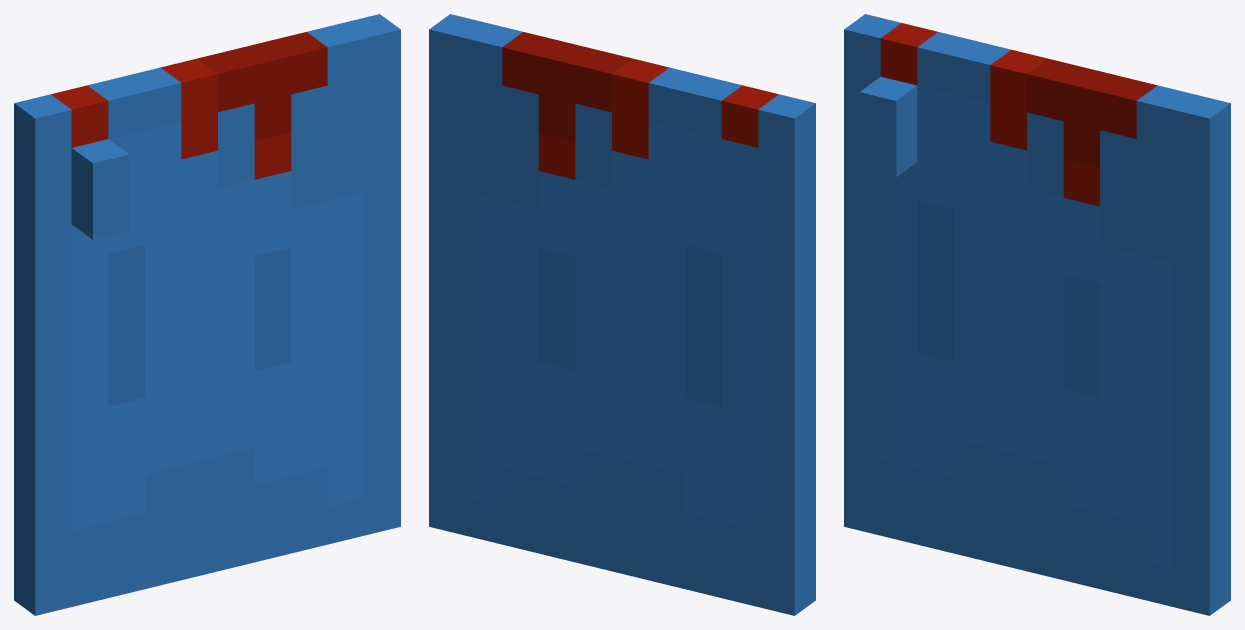
File: Kitchen_cabinets-15.obj
3 renders of one model, left to right at view 1: azimuth 30°, elevation 25°; view 2: azimuth 150°, elevation 25°; view 3: azimuth 330°, elevation 25°, orthographic.
Bounding box in the file's own units: 1 × 1.3 × 0.2.
Materials: 1 (1 with a texture image).
